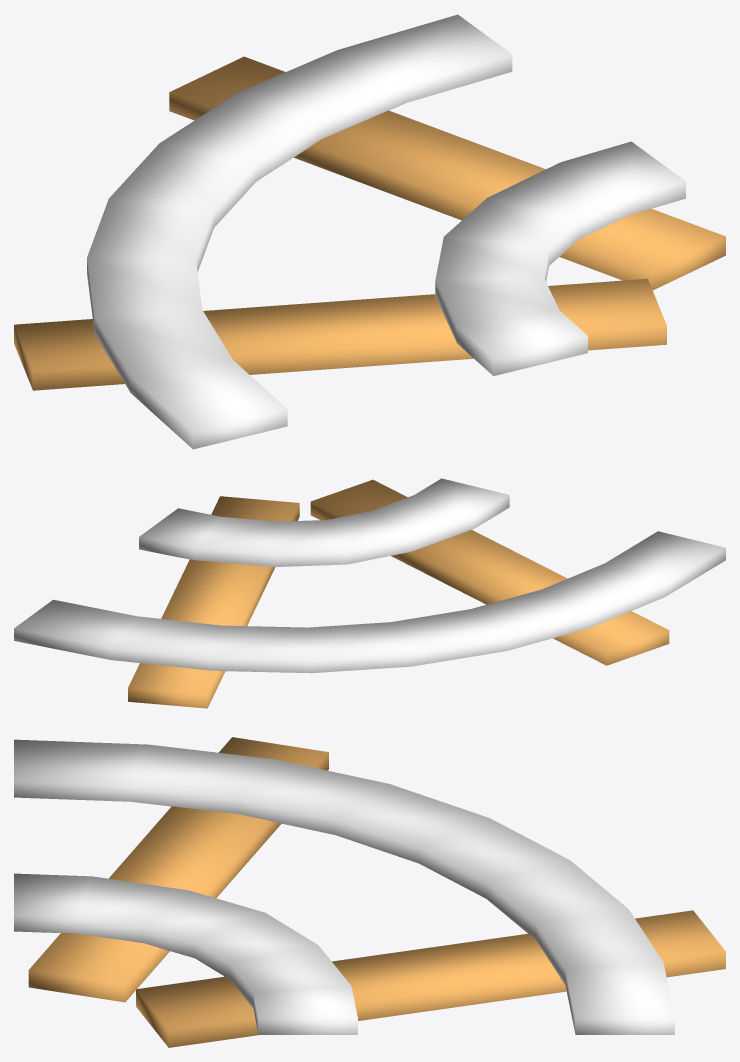
Rendered from RailTurn.fbx.
3 views of the same model, one above another, from view 1: azimuth 30°, elevation 25°; view 2: azimuth 150°, elevation 25°; view 3: azimuth 270°, elevation 25° (orthographic). The views are drawn at different scales.
Visible parts, largest first — view 1: Rail_Szyny_Turn, Rail_Track_Turn; view 2: Rail_Szyny_Turn, Rail_Track_Turn; view 3: Rail_Szyny_Turn, Rail_Track_Turn.
Part boxes in pixels (x1,y1,x2,y2): Rail_Szyny_Turn: (87,14,685,449); Rail_Track_Turn: (14,56,725,390); Rail_Szyny_Turn: (14,478,725,673); Rail_Track_Turn: (128,479,669,708); Rail_Szyny_Turn: (14,739,674,1034); Rail_Track_Turn: (28,737,725,1047).
Size of the model in its own units: 77.73 by 4.02 by 78.62.
